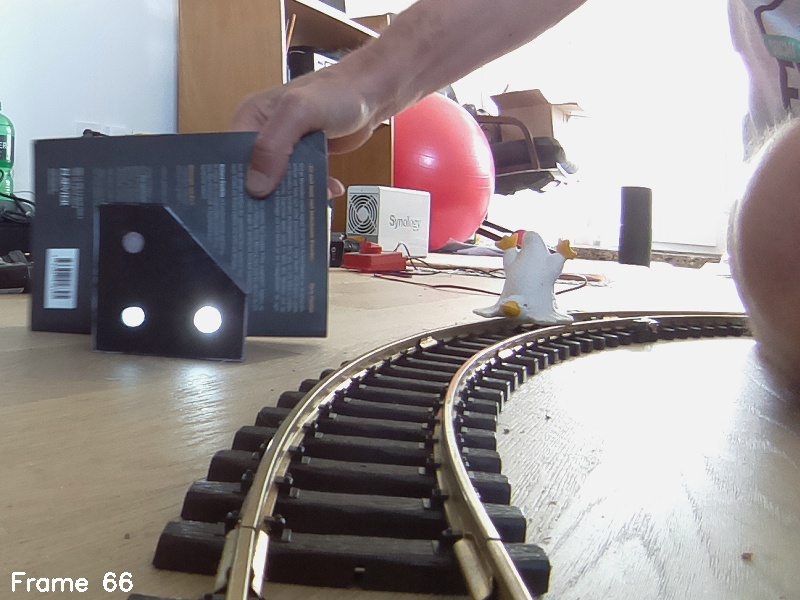Halt: (94, 204, 244, 362)
